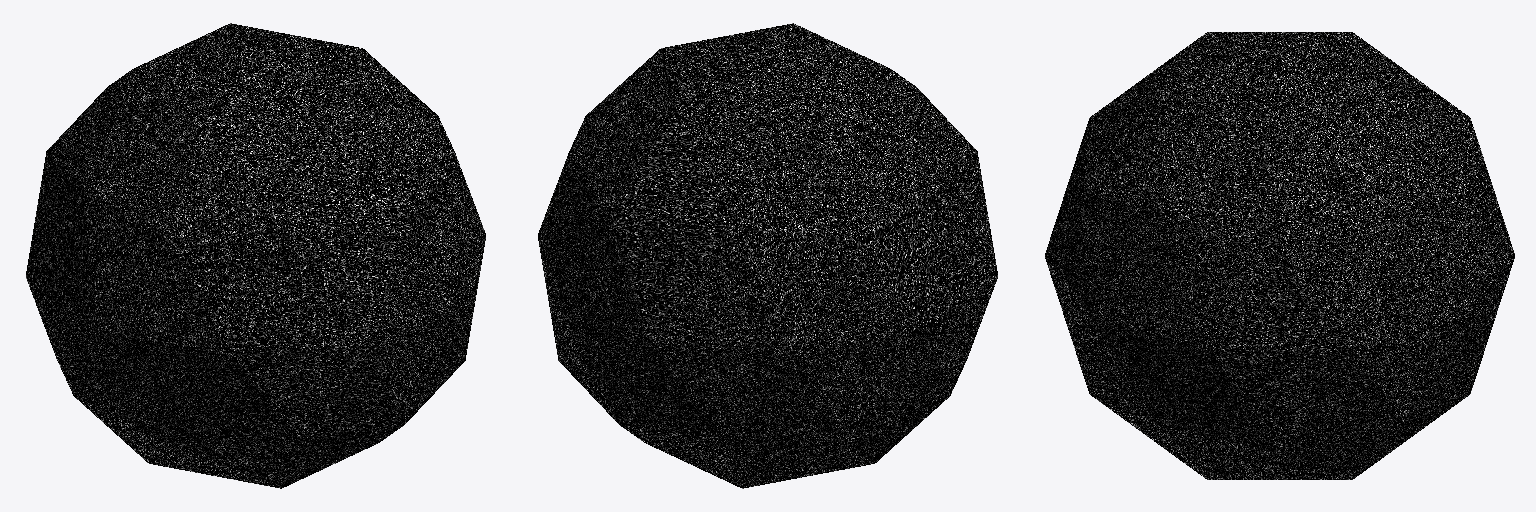
3 renders of one model, left to right at view 1: azimuth 30°, elevation 25°; view 2: azimuth 150°, elevation 25°; view 3: azimuth 270°, elevation 25°, orthographic.
Visible parts, largest first — view 1: Icosphere; view 2: Icosphere; view 3: Icosphere.
Part boxes in pixels (x1,y1,x2,y2): Icosphere: (26,23,485,488); Icosphere: (538,23,997,488); Icosphere: (1045,32,1514,479).
Size of the model in its own units: 748 by 786 by 786.
Materials: 3 (3 with a texture image).